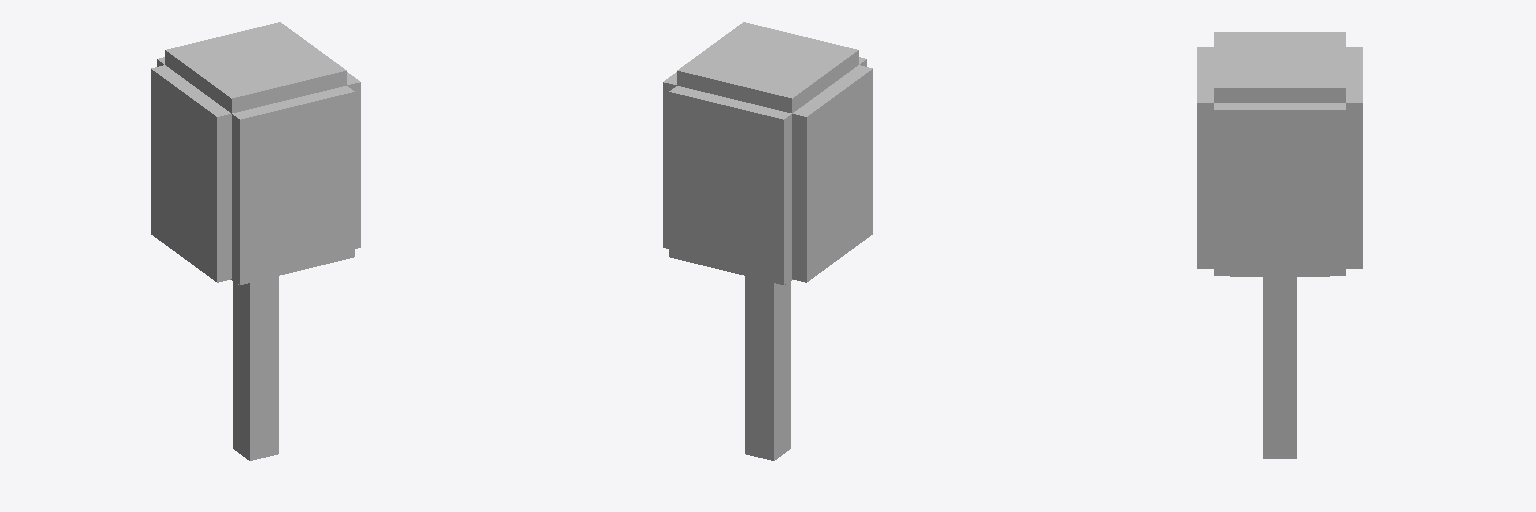
The model's file is Tree_1.obj.
3 views of the same model, side by side, from view 1: azimuth 30°, elevation 25°; view 2: azimuth 150°, elevation 25°; view 3: azimuth 270°, elevation 25° (orthographic).
Parts seen in each view (by area): view 1: object 1; view 2: object 1; view 3: object 1.
Boxes of the visible parts, x1=… form: object 1: x1=151, y1=22, x2=360, y2=460; object 1: x1=663, y1=22, x2=872, y2=460; object 1: x1=1197, y1=32, x2=1362, y2=458.
Size of the model in its own units: 1 by 2.6 by 1.